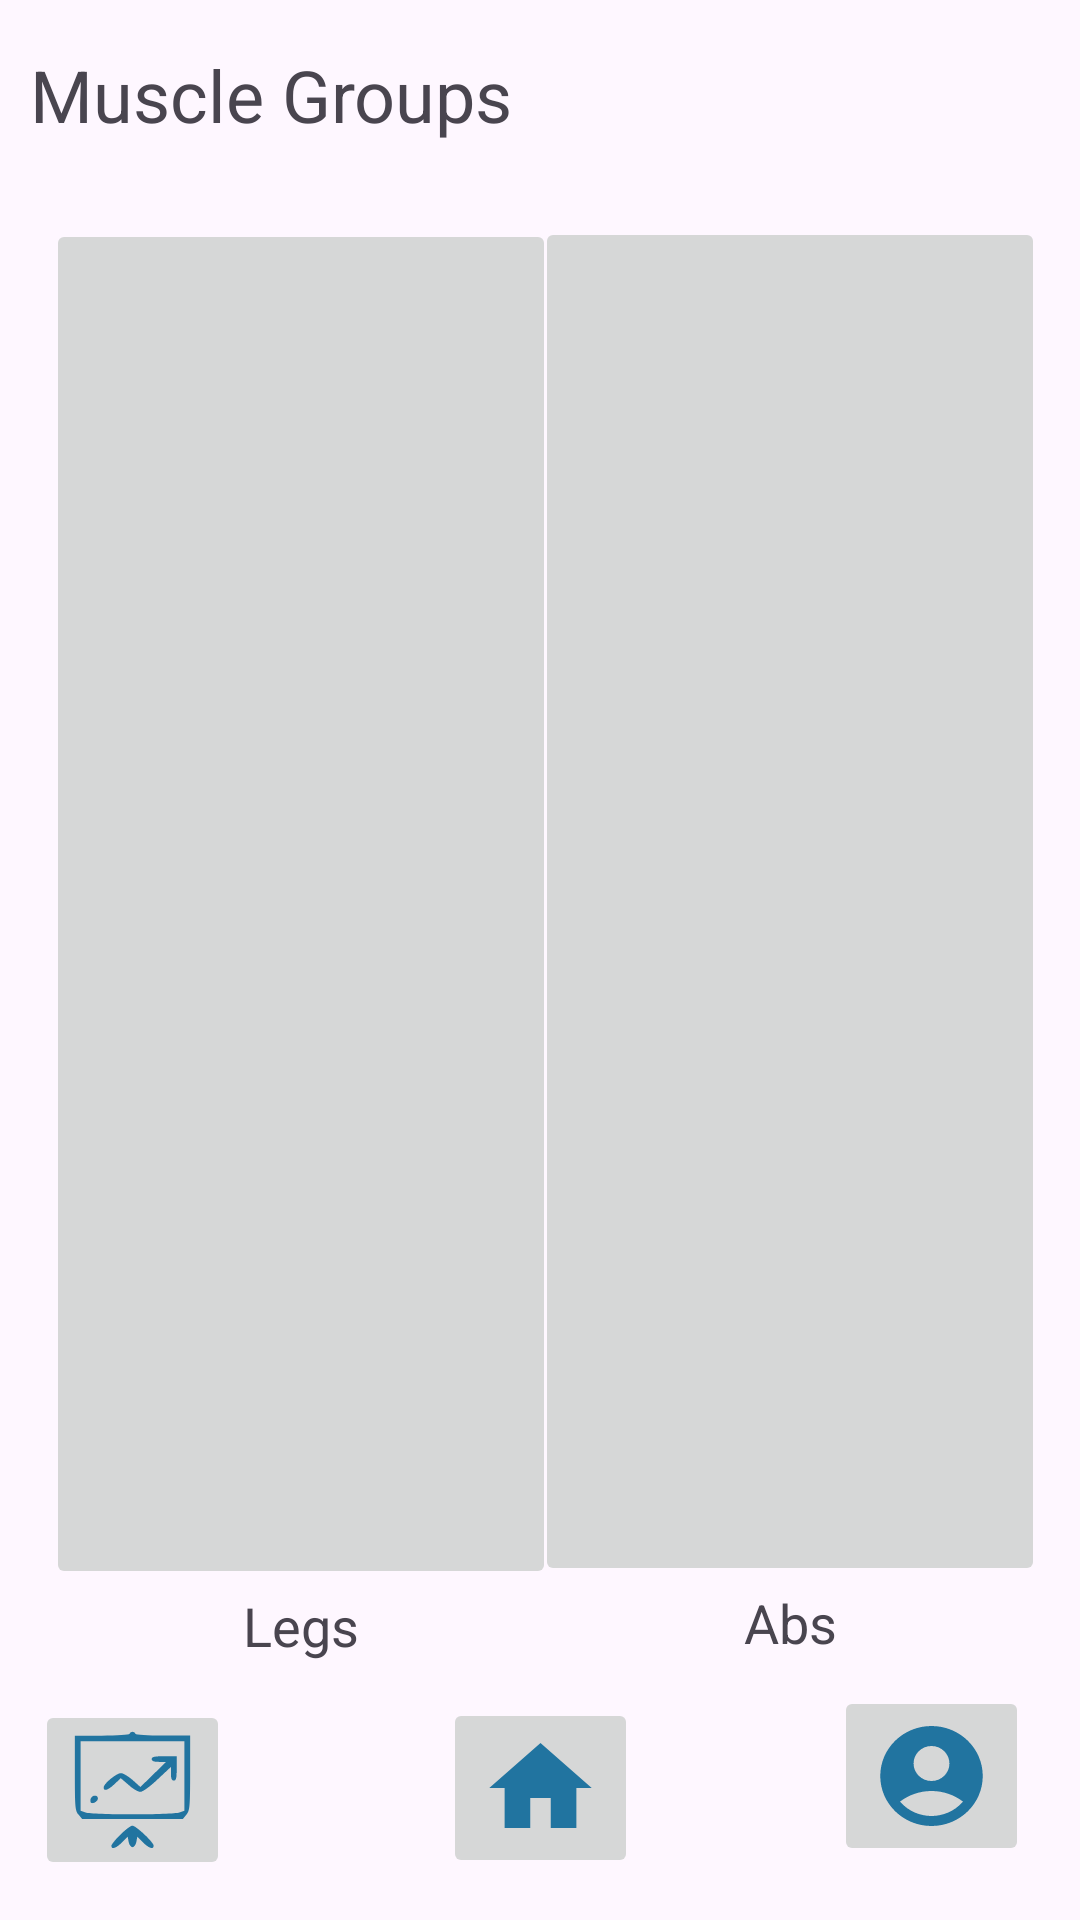

Point at icon controls on the screen. Image size 1080*1920, points as point (x, y).
account circle: point (931, 1776)
home: point (540, 1788)
statistics: point (132, 1790)
